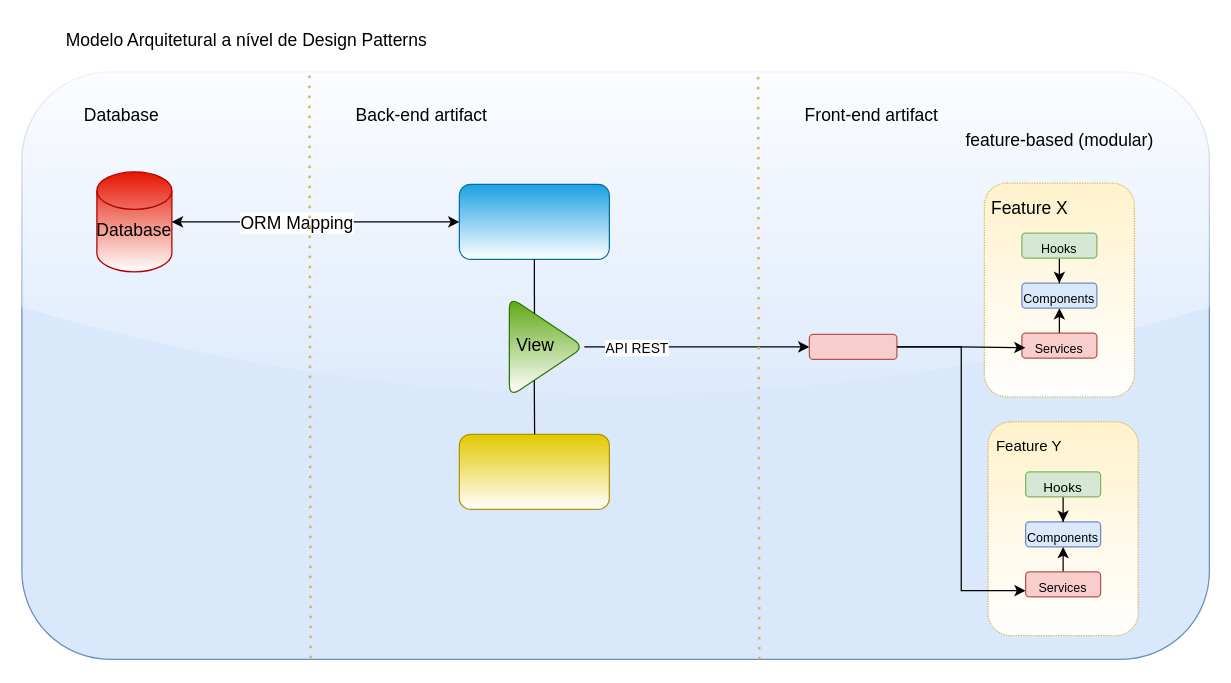
Image size: 1231x683. Some labels were removed from this diagram. The shapes that lost their labels are listed below. From the top down, each one's centre as x and y in pixels, then its label:
At pixel 533 221: "Model".
At pixel 852 346: "Service Layer".
At pixel 533 471: "Serializer".
